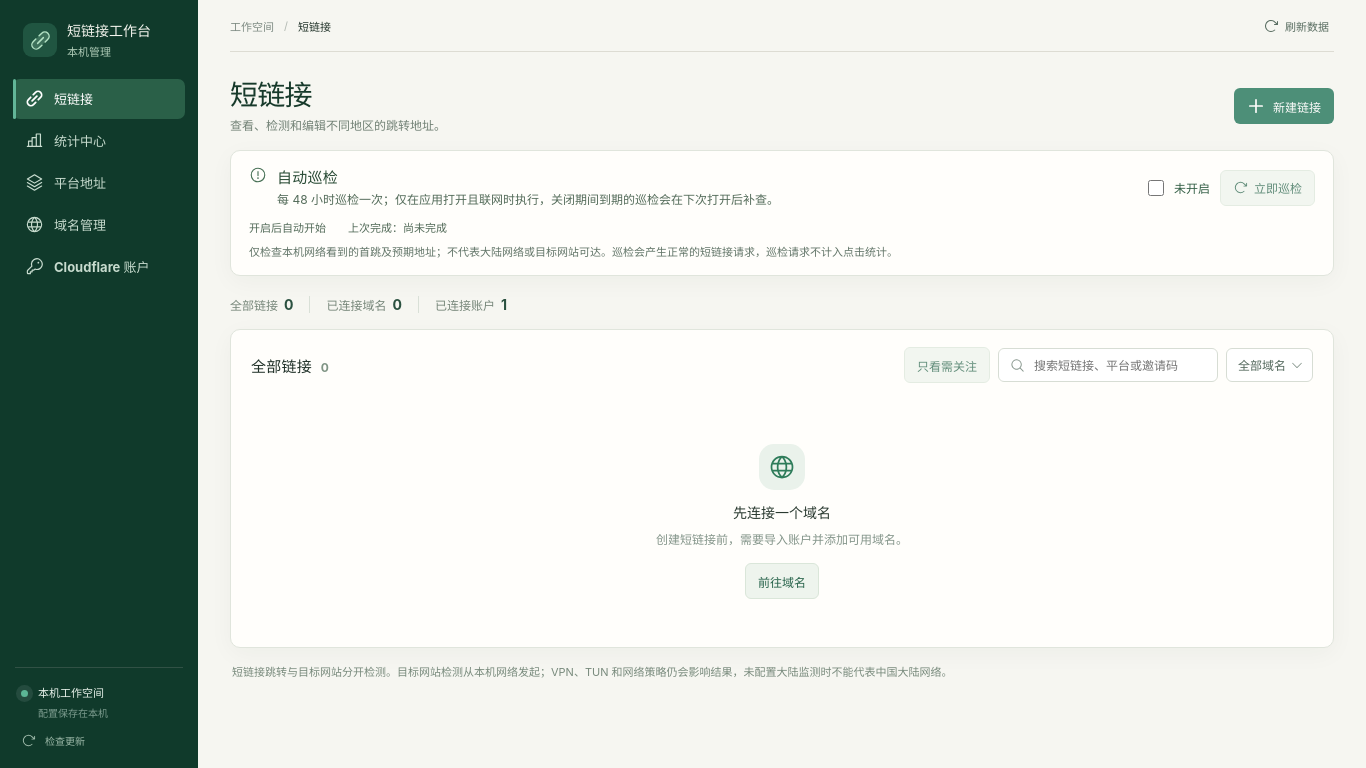
Scenario: shows the backend-provided current and available versions
Expected: the heading "先连接一个域名" is shown, [733,504,831,521]
What coordinates should you click on to do the following:
click the button "检查更新"
I would click on:
 (99, 736)
Its box is [13,720,185,752].
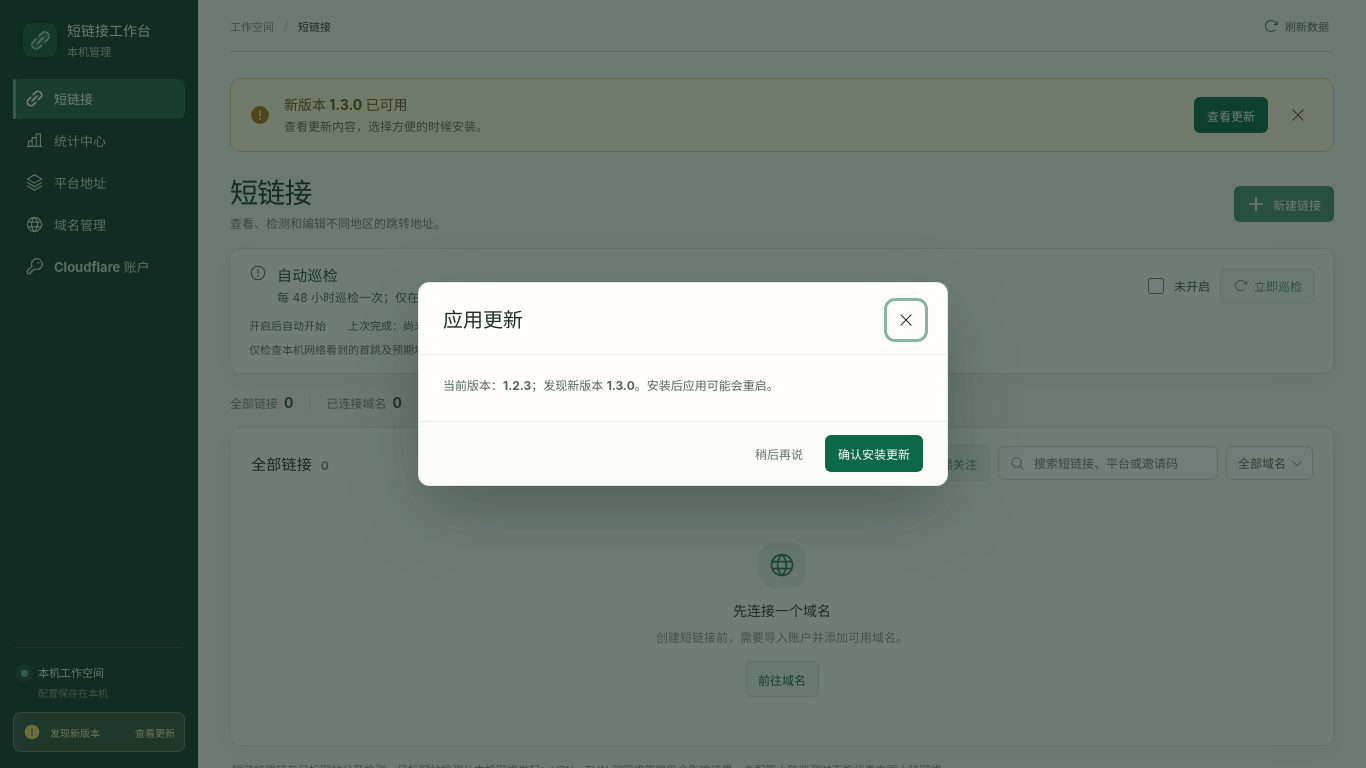
Result: the text "当前版本：1.2.3；发现新版本 1.3.0。安装后应用可能会重启。" is shown at [443,378,779,393]
